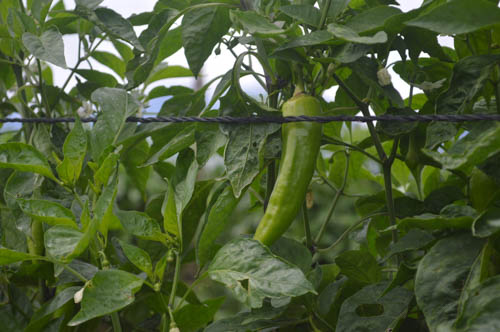ChiliPepper: (251, 96, 322, 261)
